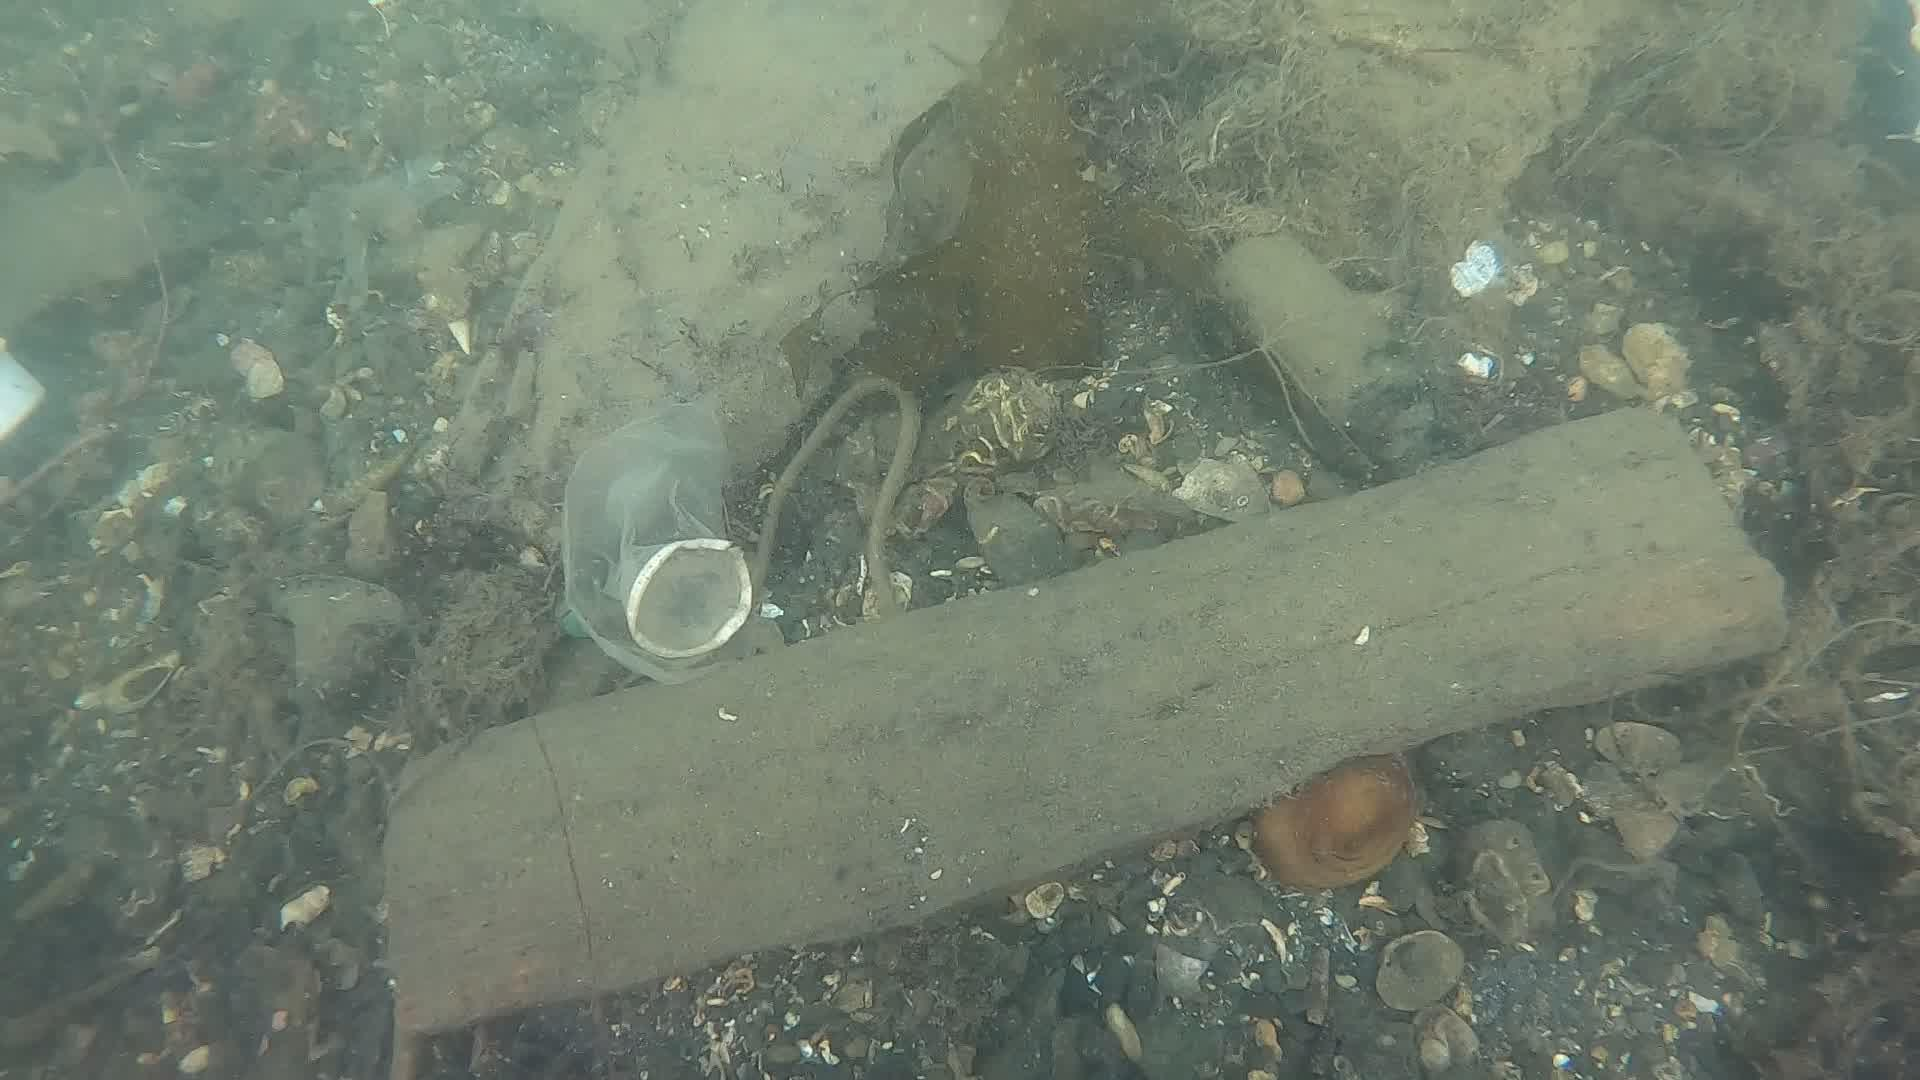wood: (375, 400, 1792, 1069)
